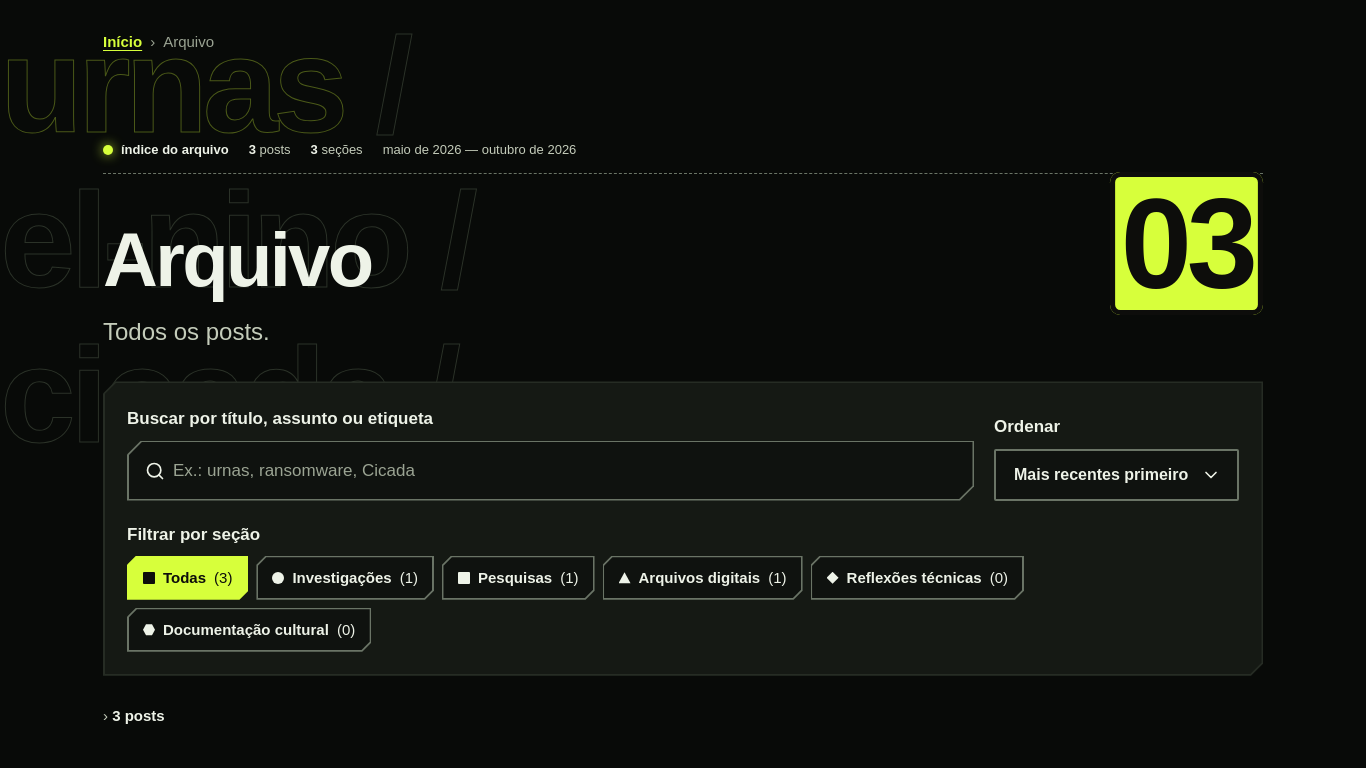
Test: <ArchiveBrowser /> › filtra por seção com botões que dizem se estão ativos
Click the button "Arquivos digitais (1)".
click(702, 578)  # box [602,556,802,600]
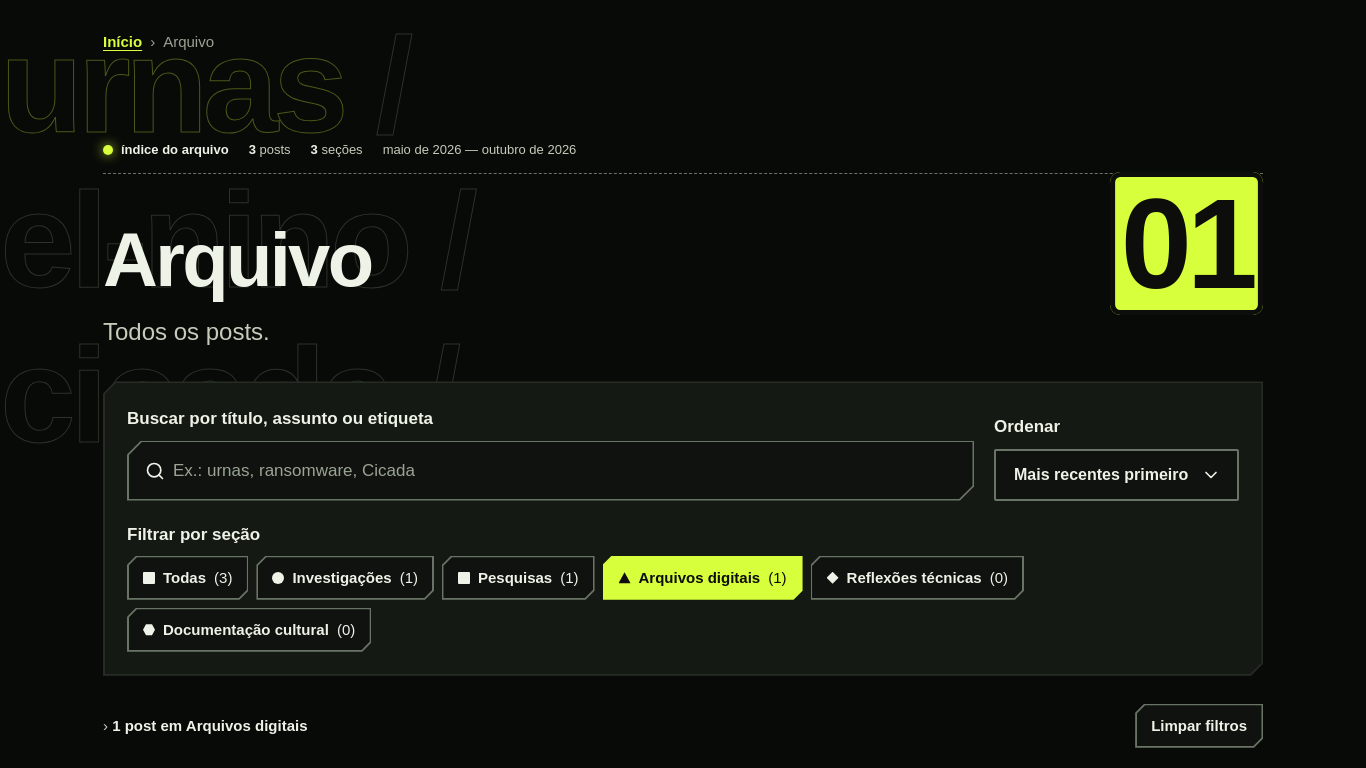
Now the button "Arquivos digitais (1)" is pressed, box [602,556,802,600]
